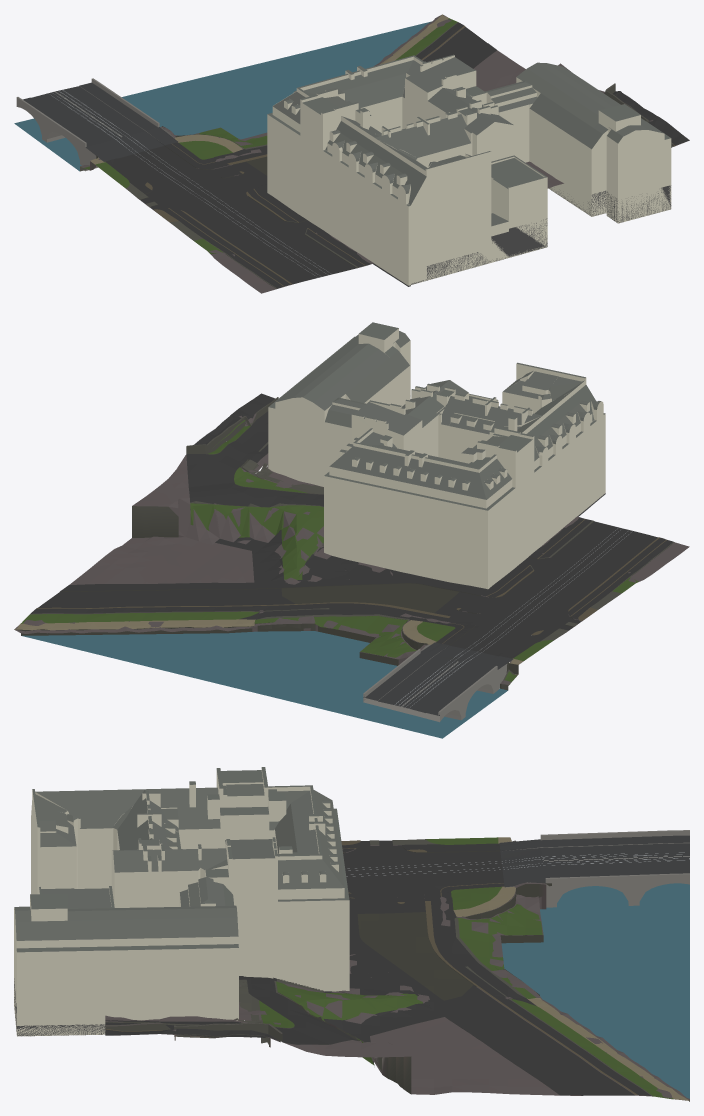
3 renders of one model, top to bottom at view 1: azimuth 30°, elevation 25°; view 2: azimuth 150°, elevation 25°; view 3: azimuth 270°, elevation 25°, orthographic. The views are drawn at different scales.
Visible parts, largest first — view 1: c_m01_m06, c_m01_m06_bridge_clipped_0; view 2: c_m01_m06; view 3: c_m01_m06, c_m01_m06_bridge_clipped_0.
Boxes of the visible parts, x1=… form: c_m01_m06: x1=14, y1=14, x2=689, y2=293; c_m01_m06_bridge_clipped_0: x1=80, y1=126, x2=187, y2=170; c_m01_m06: x1=14, y1=322, x2=689, y2=738; c_m01_m06: x1=14, y1=767, x2=689, y2=1101; c_m01_m06_bridge_clipped_0: x1=489, y1=840, x2=551, y2=891.
Size of the model in its own units: 128 by 38.83 by 148.
